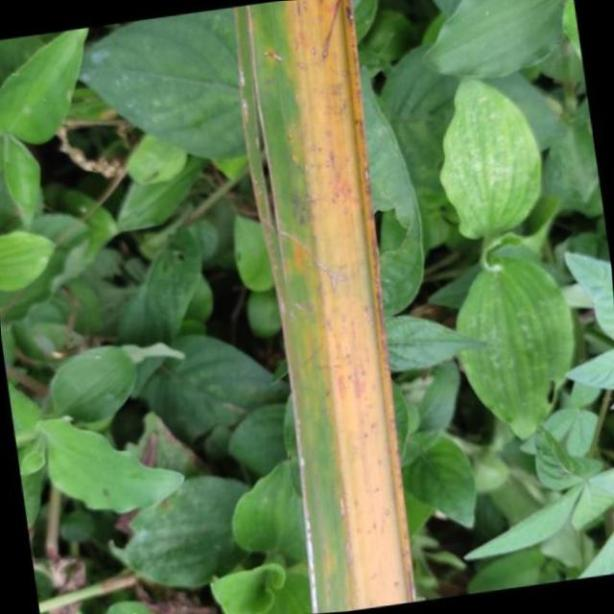Megnesium: (235, 0, 416, 614)
